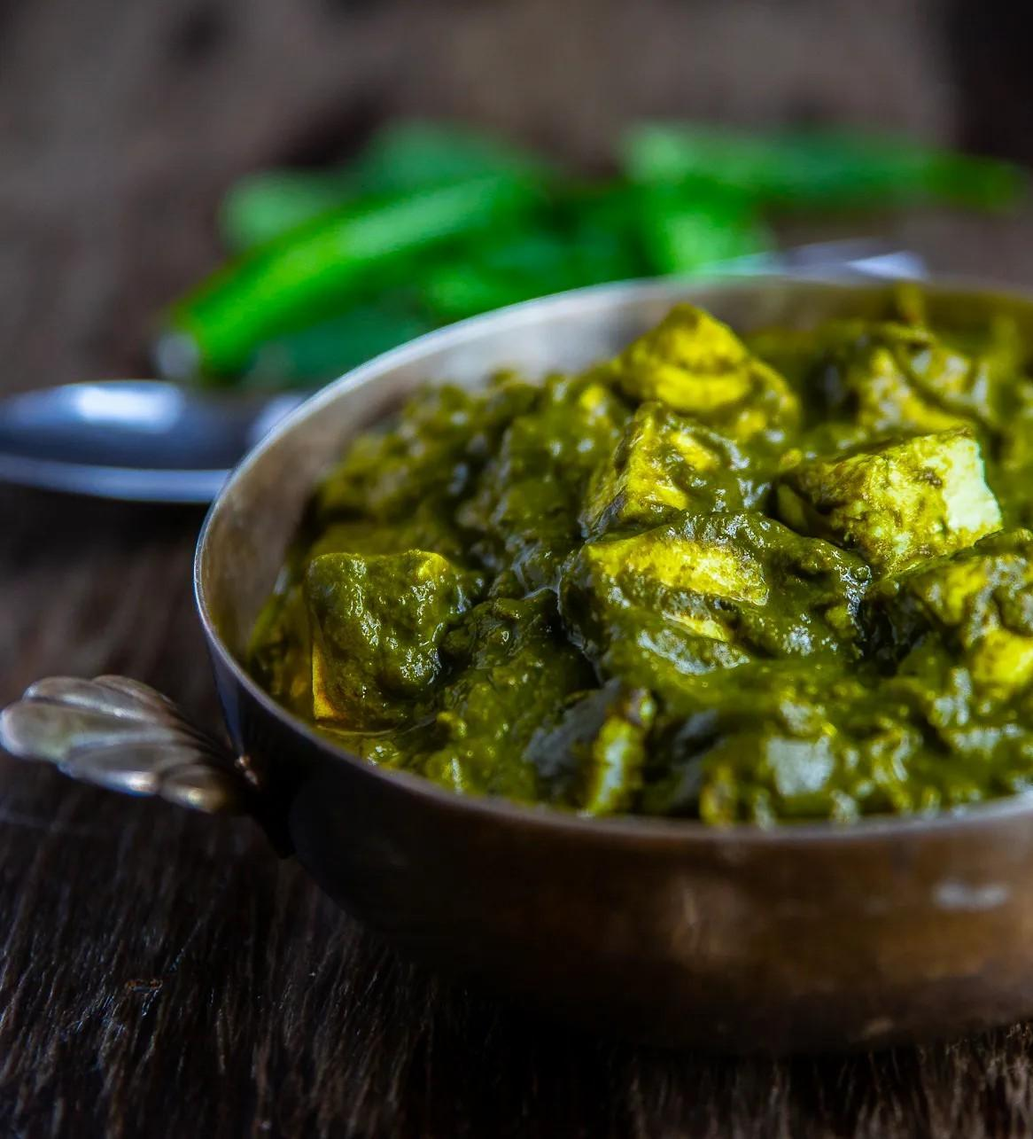PalakPaneer: (233, 266, 1033, 831)
